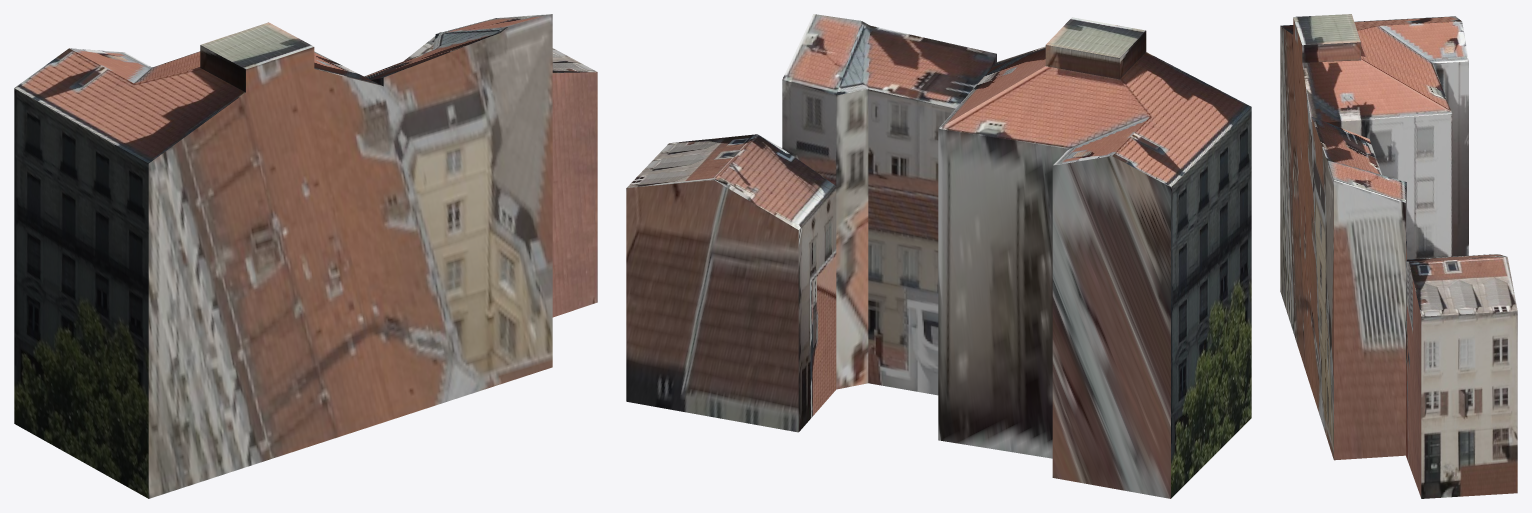
3 renders of one model, left to right at view 1: azimuth 30°, elevation 25°; view 2: azimuth 150°, elevation 25°; view 3: azimuth 270°, elevation 25°, orthographic. The views are drawn at different scales.
Visible parts, largest first — view 1: Z_UP; view 2: Z_UP; view 3: Z_UP.
Part boxes in pixels (x1,y1,x2,y2): Z_UP: (14,14,597,498); Z_UP: (626,14,1251,498); Z_UP: (1280,14,1517,498).
Bounding box in the file's own units: 37.83 × 25.61 × 17.49.
2 materials, 1 textured.
